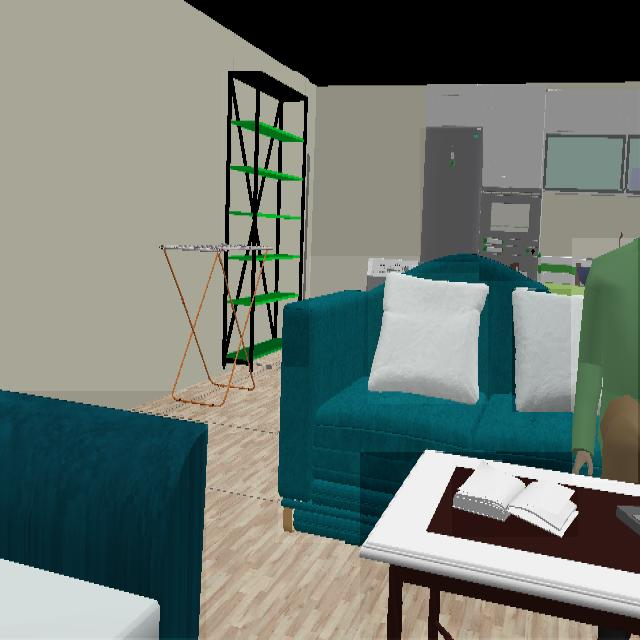book: (452, 461, 578, 537)
cabinet: (427, 86, 638, 189)
fridge: (420, 129, 483, 262)
microwave: (479, 189, 541, 281)
person: (573, 238, 639, 483)
pillow: (369, 275, 488, 404), (512, 290, 583, 412)
shelf: (221, 71, 309, 367)
sofa: (278, 256, 572, 542), (0, 391, 206, 638)
table: (360, 453, 640, 637)
